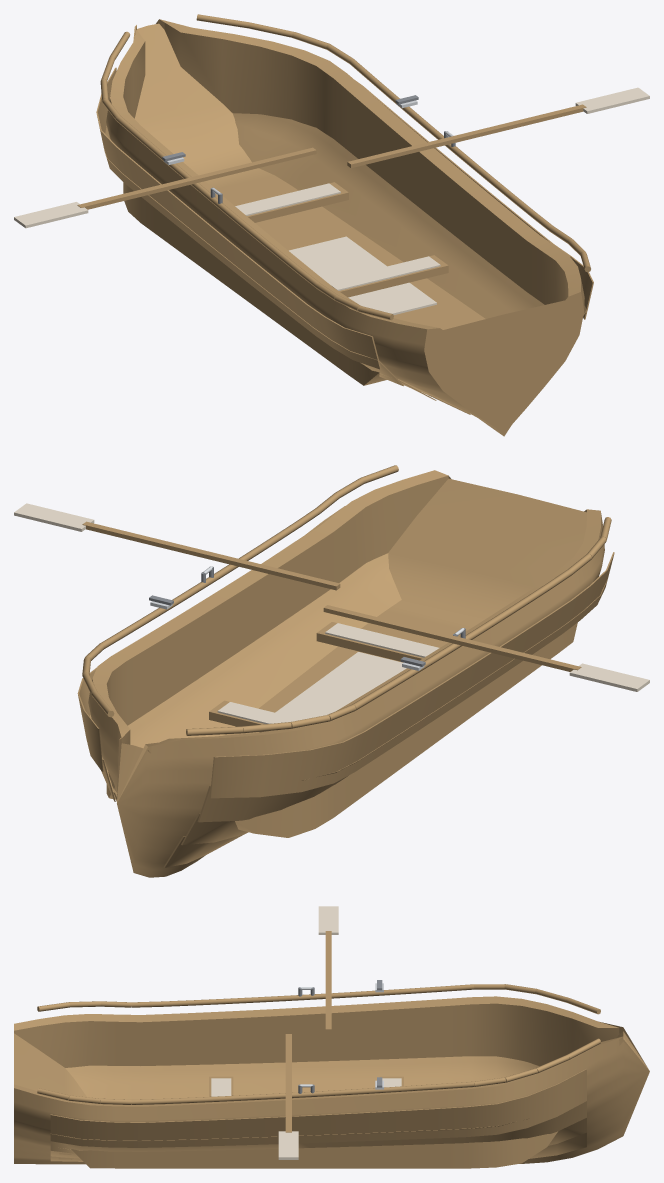
The model's file is Rowboat.fbx.
3 renders of one model, top to bottom at view 1: azimuth 30°, elevation 25°; view 2: azimuth 150°, elevation 25°; view 3: azimuth 270°, elevation 25°, orthographic. The views are drawn at different scales.
Parts seen in each view (by area): view 1: LOD0; view 2: LOD0; view 3: LOD0.
Boxes of the visible parts, <box> form: LOD0: <box>14,14,649,436</box>; LOD0: <box>14,465,649,877</box>; LOD0: <box>14,906,649,1168</box>.
Size of what is drawn, in the model's own units: 268 by 69.95 by 287.
